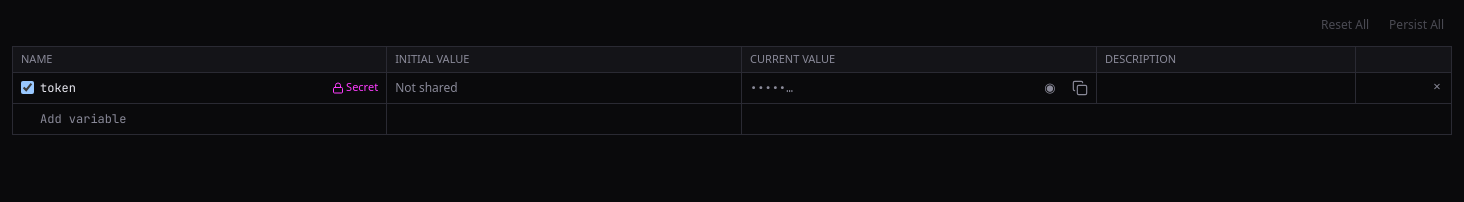
Test: VariableTable › asks before writing a secret into the workspace files
Click the button with aria-label "Secret token" at (355, 88), box [328,76,382,98]
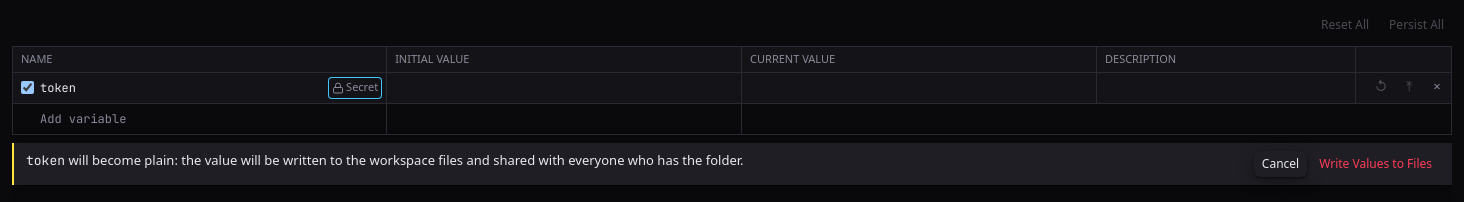
Result: the text "will be written to the workspace files" is shown at [65,150,744,168]
Click the button "Write Values to Files" at (1376, 164), box [1311,150,1440,176]
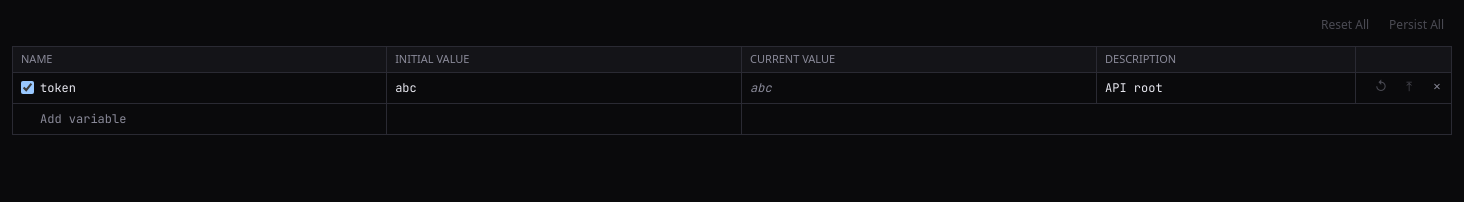
Result: the text box named "Initial value of token" holds "abc" at [387,72,741,102]
